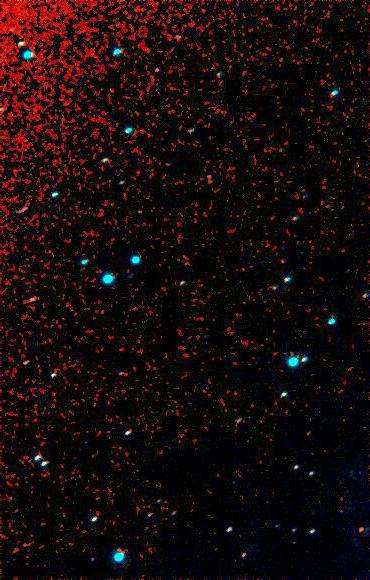star: (347, 514, 370, 544)
